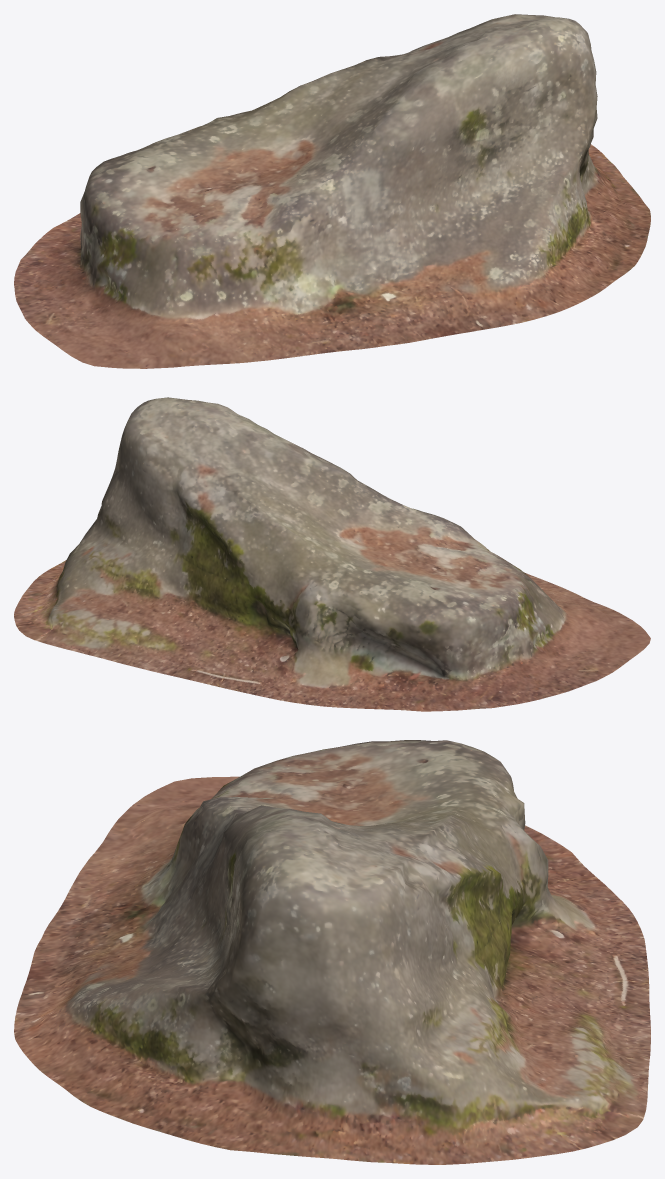
The model's file is Rock_07.FBX.
The picture shows the model from 3 angles, top to bottom: view 1: azimuth 30°, elevation 25°; view 2: azimuth 150°, elevation 25°; view 3: azimuth 270°, elevation 25°; orthographic projection. The views are drawn at different scales.
Parts seen in each view (by area): view 1: Rock07_LOD0; view 2: Rock07_LOD0; view 3: Rock07_LOD0.
Boxes of the visible parts, x1,y1,x2,y2 form: Rock07_LOD0: (14,14,650,368); Rock07_LOD0: (14,397,650,711); Rock07_LOD0: (14,740,650,1164).
Size of what is drawn, in the model's own units: 6.76 by 4.68 by 1.99.
Materials: 1 (1 with a texture image).
